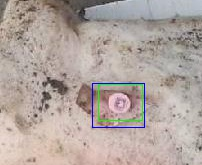text: (98, 84, 142, 120)
